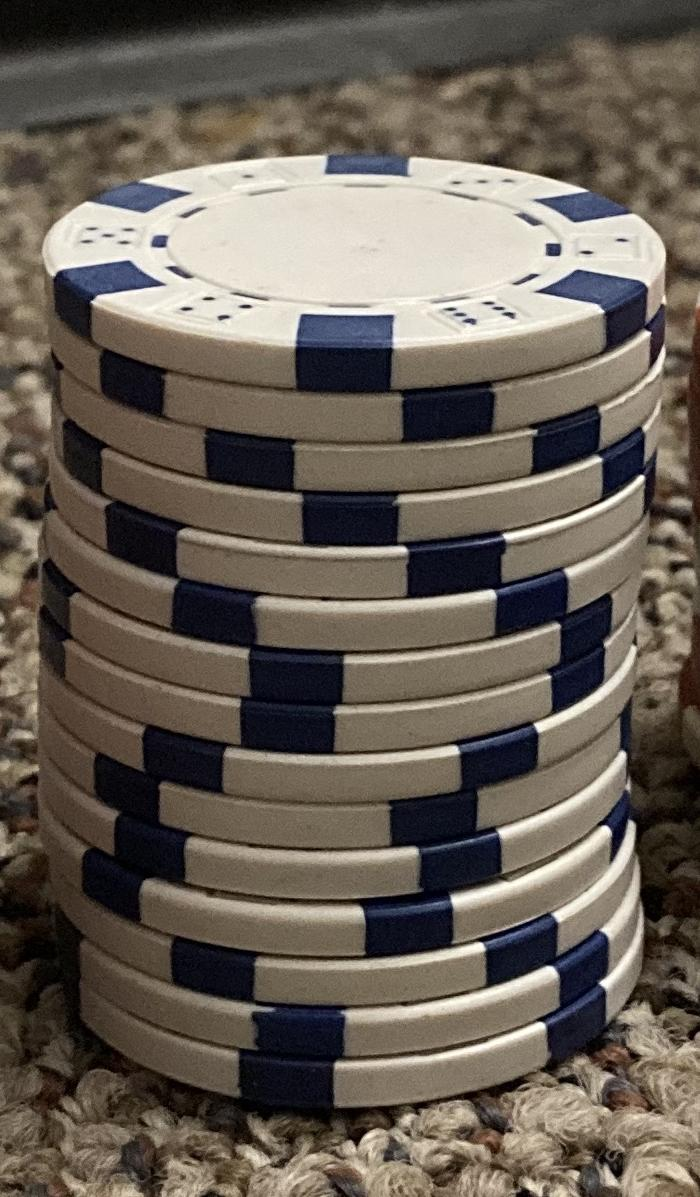Chip: (1, 1, 700, 1197)
